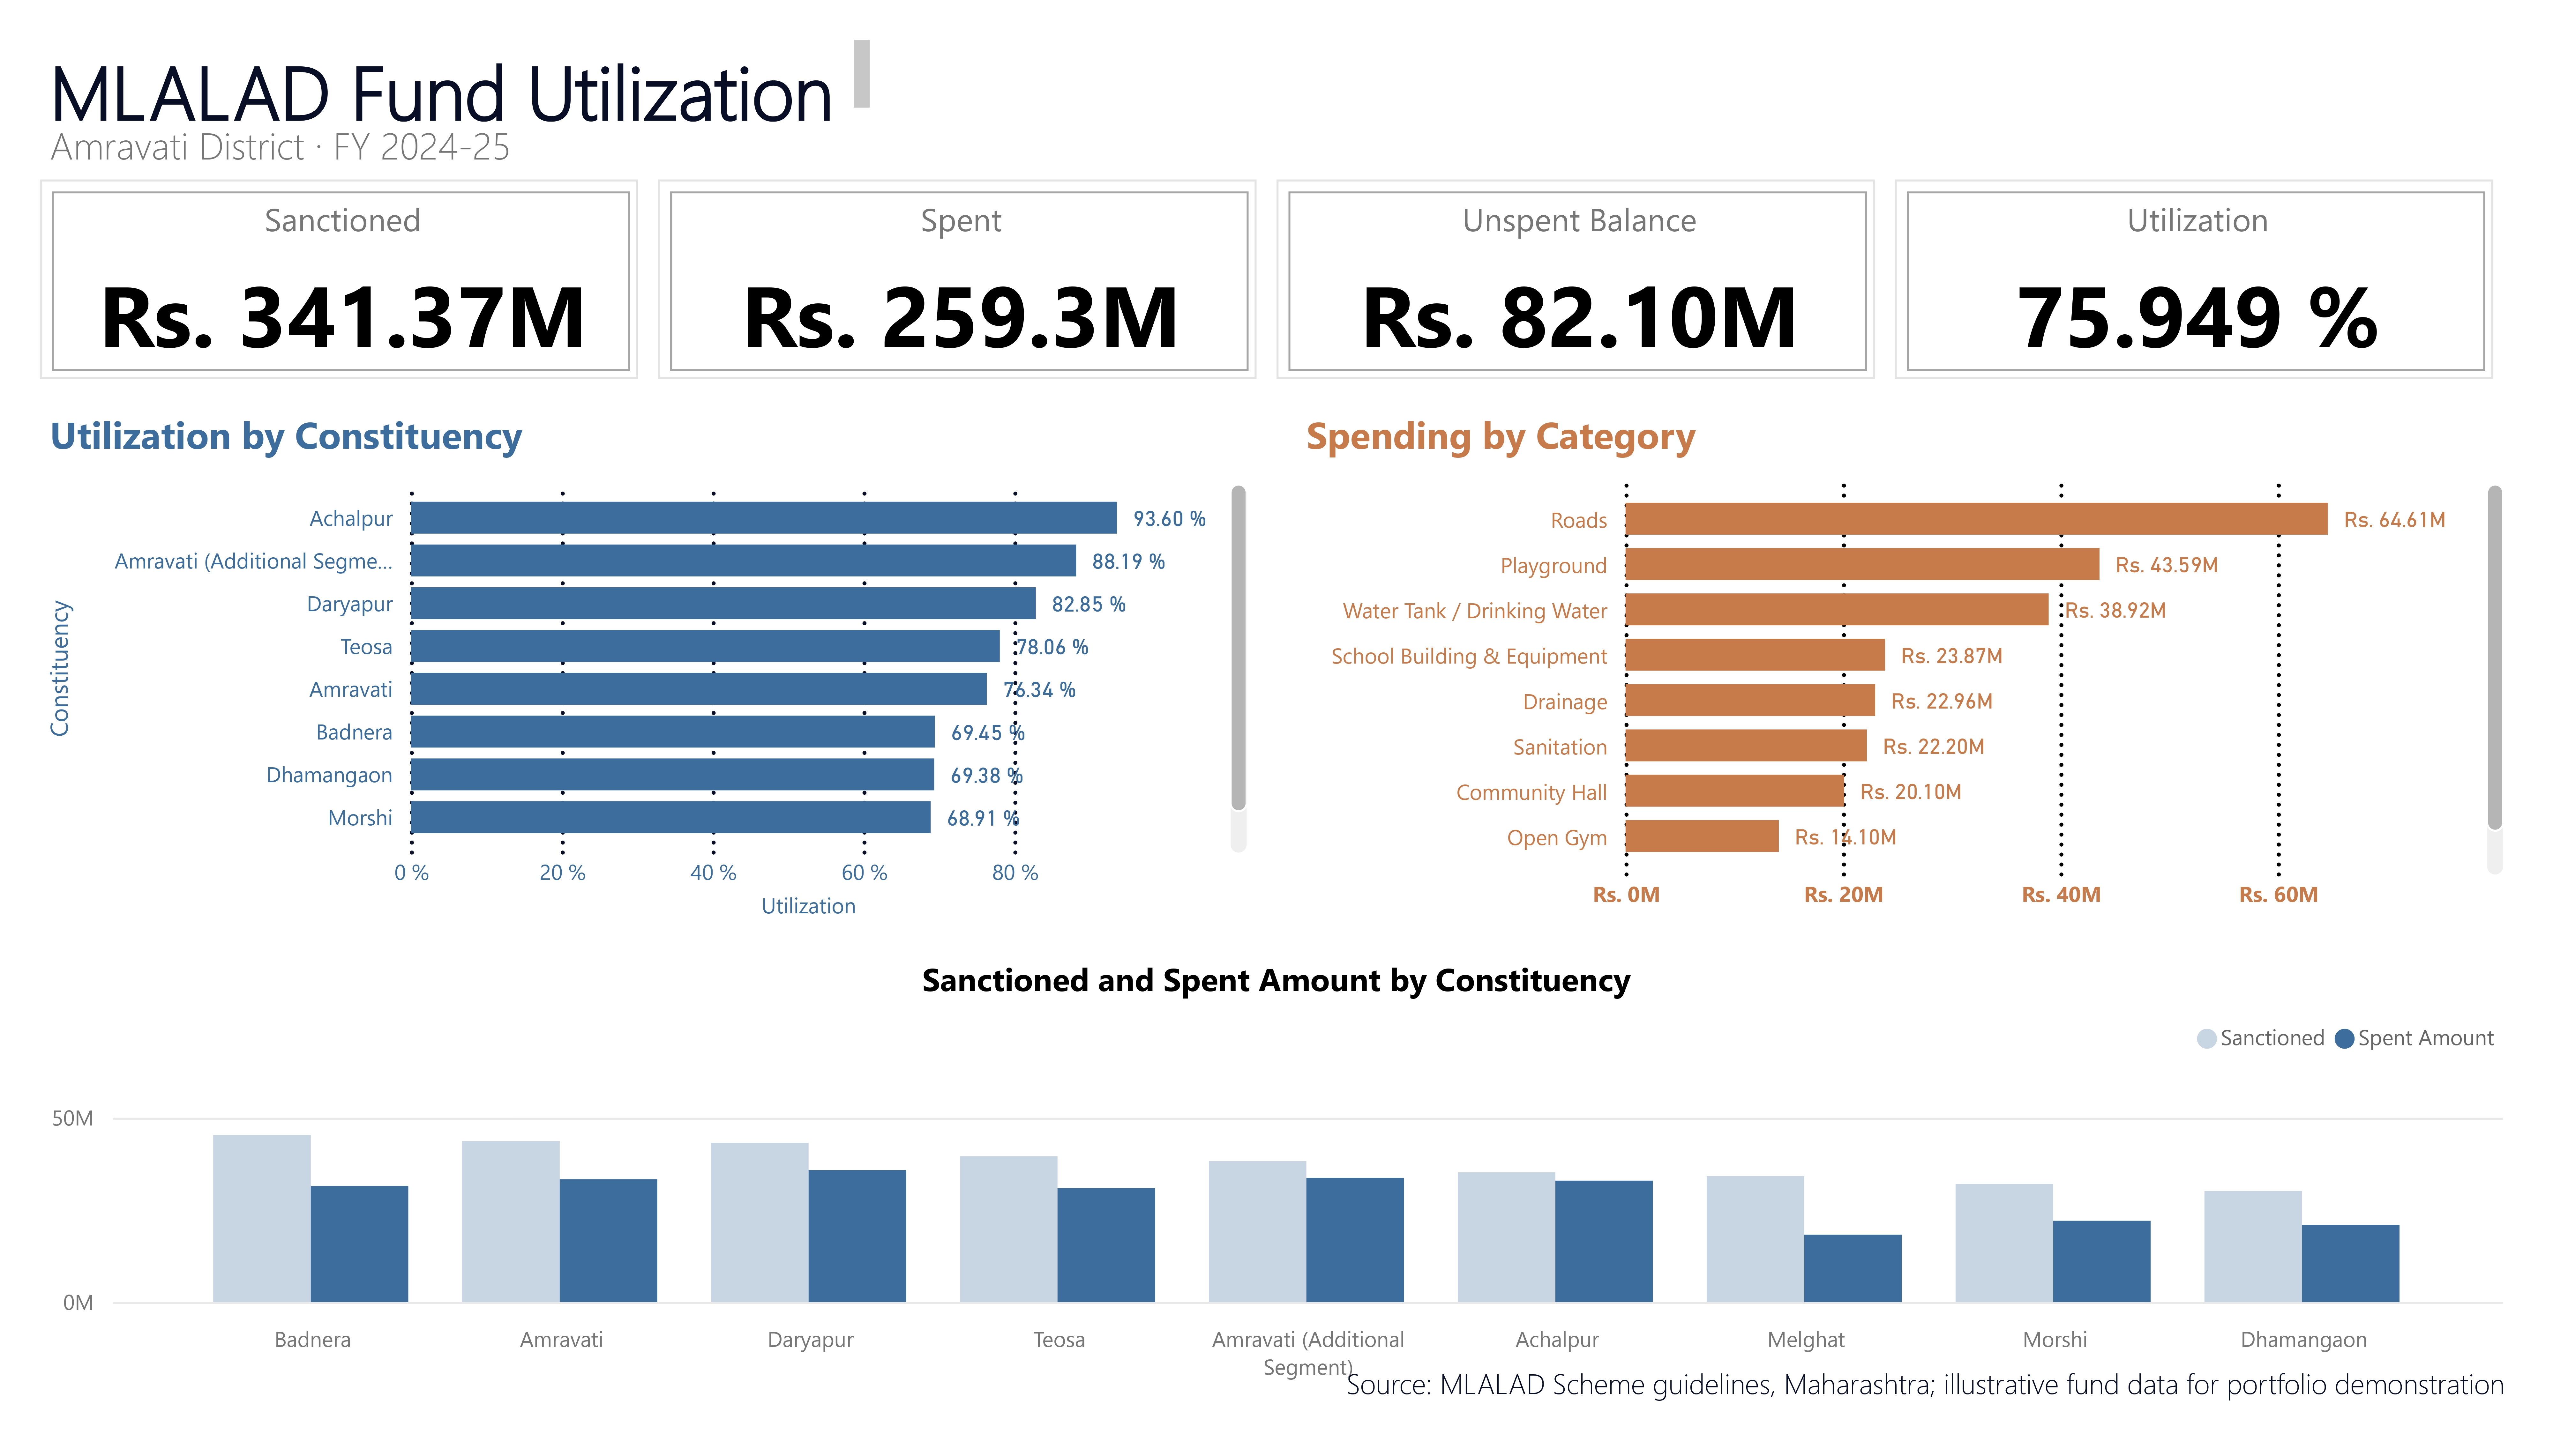

The page's visual inventory and layout, read from the dashboard file:
{"tool":"powerbi","page":{"name":"Page 1","canvas":[1280,720],"ordinal":0},"visuals":[{"type":"textbox","box":[20,10,700,52],"z":0},{"type":"textbox","box":[20,50,400,36],"z":1},{"type":"cardVisual","fields":{"Data":["Sum(mla_fund_dataset.Sanctioned)"]},"box":[20,85,300,100],"z":2},{"type":"cardVisual","fields":{"Data":["Sum(mla_fund_dataset.Remaining_Balance)"]},"box":[640,85,300,100],"z":3},{"type":"cardVisual","fields":{"Data":["Sum(mla_fund_dataset.Spent_Amount)"]},"box":[330,85,300,100],"z":4},{"type":"cardVisual","fields":{"Data":["mla_fund_dataset.Utilization %"]},"box":[950,85,300,100],"z":5},{"type":"clusteredBarChart","title":"Utilization by Constituency","fields":{"Category":["mla_fund_dataset.Constituency"],"Y":["mla_fund_dataset.Utilization %"]},"box":[20,200,610,260],"z":6},{"type":"clusteredBarChart","title":"Spending by Category","fields":{"Category":["mla_fund_dataset.Category"],"Y":["Sum(mla_fund_dataset.Spent_Amount)"]},"box":[650,200,610,260],"z":7},{"type":"clusteredColumnChart","fields":{"Category":["mla_fund_dataset.Constituency"],"Y":["Sum(mla_fund_dataset.Sanctioned)","Sum(mla_fund_dataset.Spent_Amount)"]},"box":[20,475,1240,220],"z":8},{"type":"textbox","box":[670,674,610,46],"z":9}]}

Visuals, with their boxes in screenshot pixels (x1, y1, x2, y2), scaled from the page's 1280x720 canvas onto the 2553x1456 screenshot:
textbox: <region>40, 20, 1436, 125</region>
textbox: <region>40, 101, 838, 174</region>
cardVisual - Sum(mla_fund_dataset.Sanctioned): <region>40, 172, 638, 374</region>
cardVisual - Sum(mla_fund_dataset.Remaining_Balance): <region>1276, 172, 1875, 374</region>
cardVisual - Sum(mla_fund_dataset.Spent_Amount): <region>658, 172, 1257, 374</region>
cardVisual - mla_fund_dataset.Utilization %: <region>1895, 172, 2493, 374</region>
"Utilization by Constituency" clusteredBarChart: <region>40, 405, 1257, 930</region>
"Spending by Category" clusteredBarChart: <region>1296, 405, 2513, 930</region>
clusteredColumnChart - mla_fund_dataset.Constituency x Sum(mla_fund_dataset.Sanctioned): <region>40, 961, 2513, 1406</region>
textbox: <region>1336, 1363, 2553, 1456</region>
